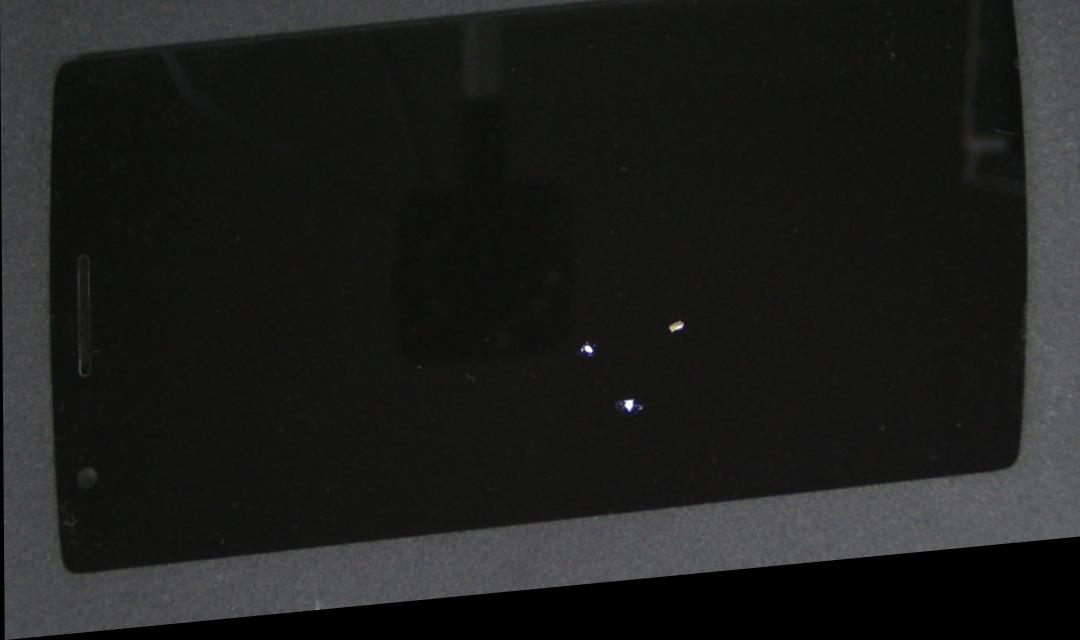Scratches: (567, 325, 606, 367), (657, 309, 700, 346), (609, 388, 651, 423)
